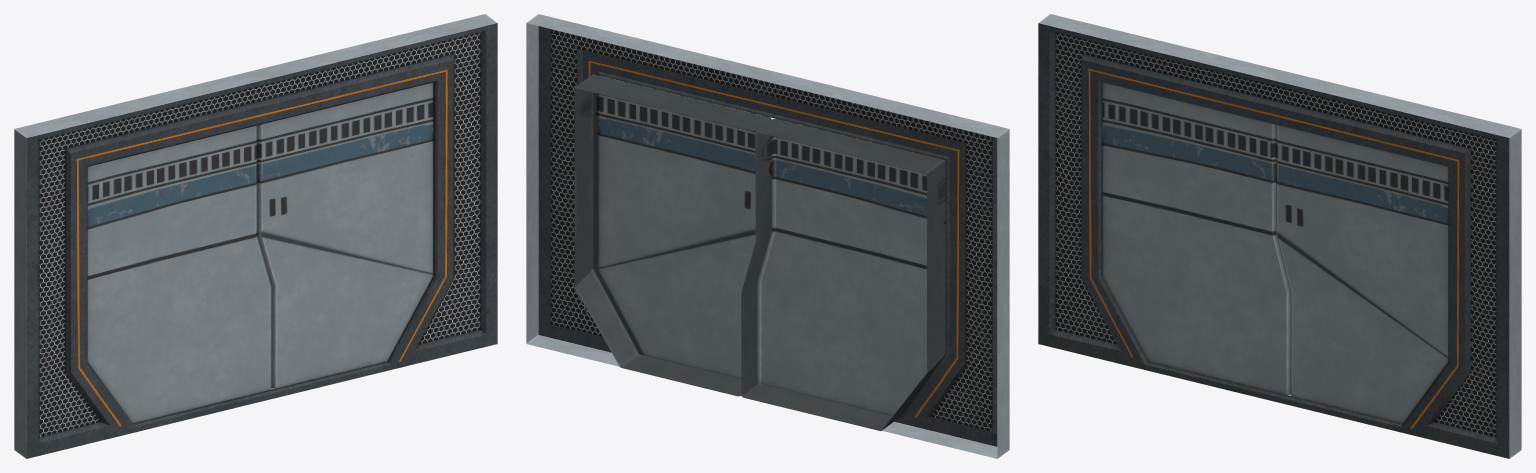
File: Door.fbx
3 views of the same model, side by side, from view 1: azimuth 30°, elevation 25°; view 2: azimuth 150°, elevation 25°; view 3: azimuth 330°, elevation 25° (orthographic).
Visible parts, largest first — view 1: Door; view 2: Door; view 3: Door.
Boxes of the visible parts, x1,y1,x2,y2 form: Door: [14, 14, 497, 458]; Door: [526, 14, 1009, 458]; Door: [1038, 14, 1521, 458].
Bounding box in the file's own units: 562 × 366 × 42.92.
